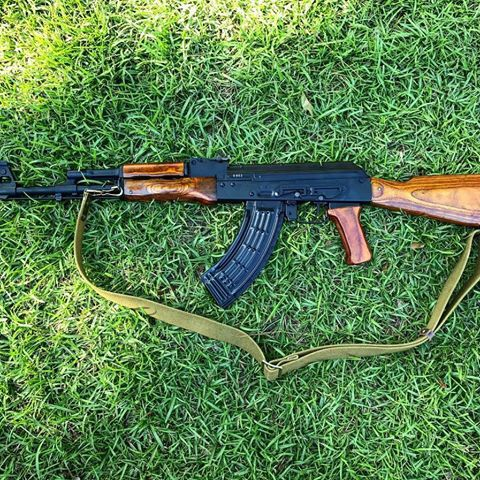ak47: (2, 160, 476, 300)
